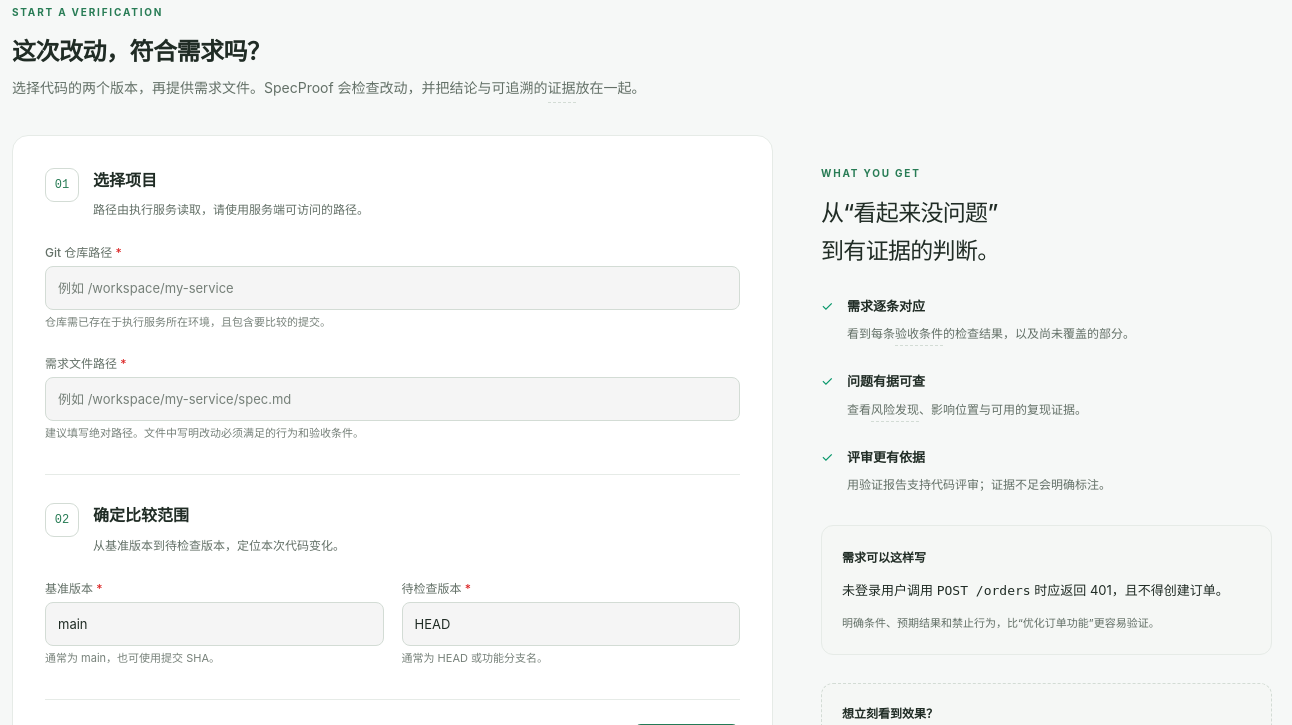
Test: new verification › turns a raw transport failure (Failed to fetch) into a Chinese hint, not English
The image size is (1292, 725).
In the field labelled "Git 仓库路径 *": coordinates (392, 288) [45,266,740,310], type "  /workspace/orders  "
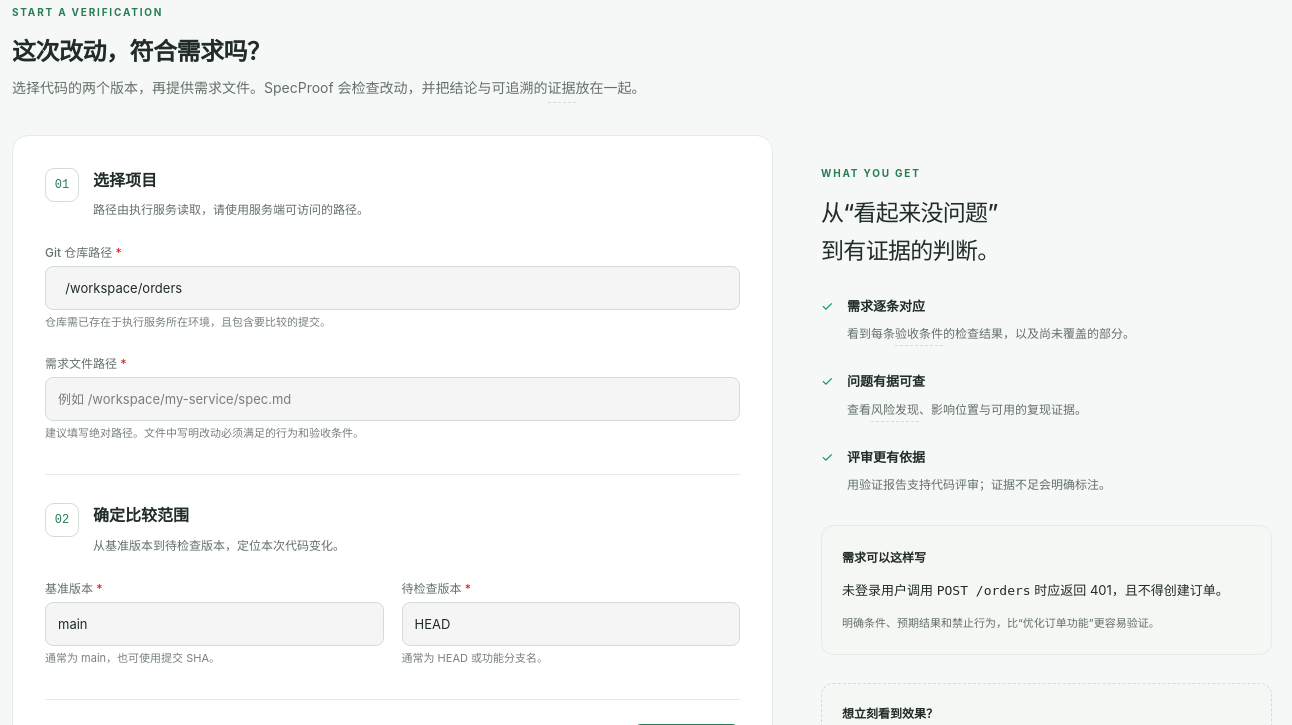
In the field labelled "需求文件路径 *": coordinates (392, 399) [45,377,740,421], type " /workspace/orders/spec.md "
(page scrolled)
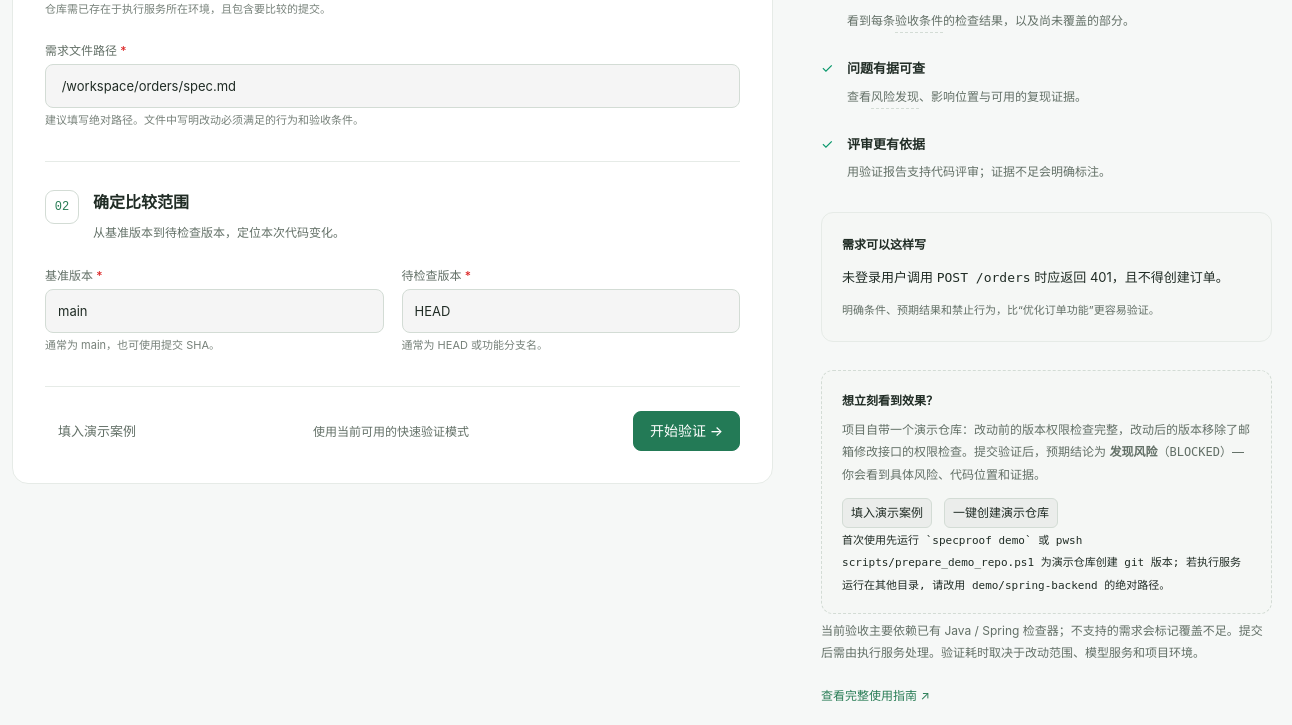
Click the button "开始验证 →": coordinates (686, 431) [633,411,740,451]
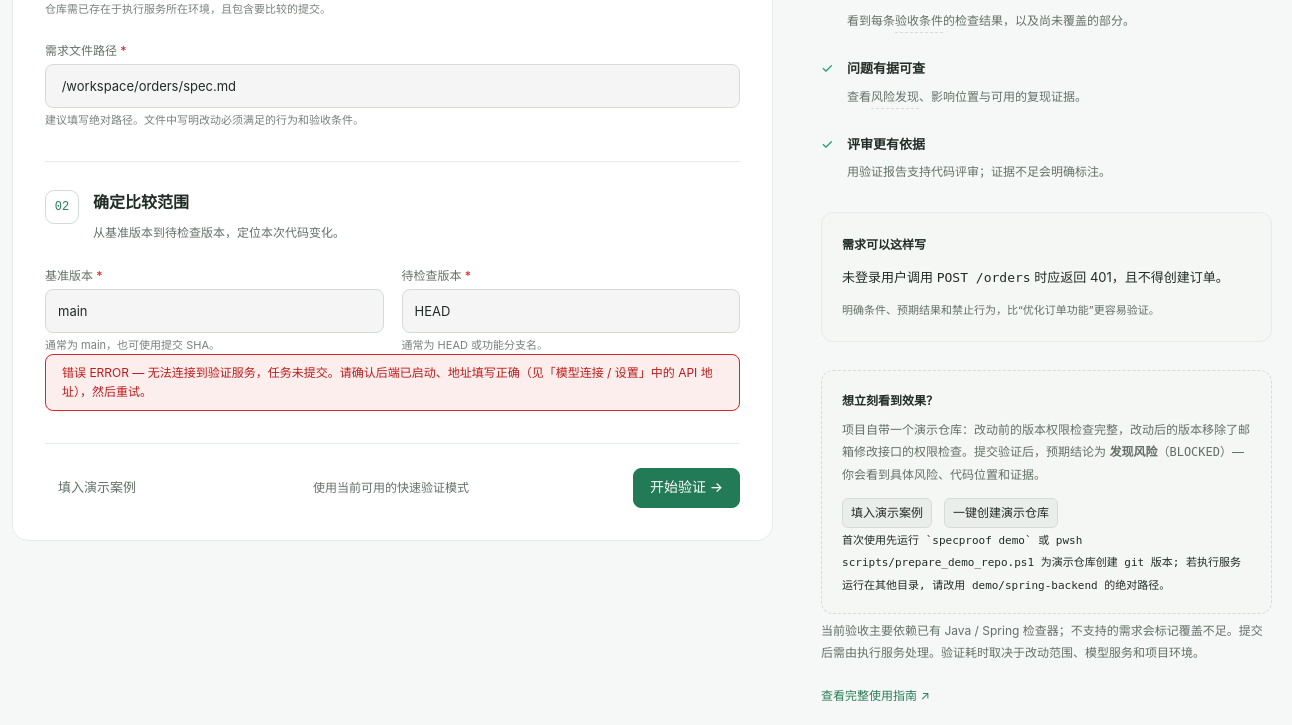
expect the text "错误 ERROR — 无法连接到验证服务，任务未提交。请确认后端已启动、地址填写正确（见「模型连接 / 设置」中的 API 地址），然后重试。" is shown: met, box [45,354,740,411]
